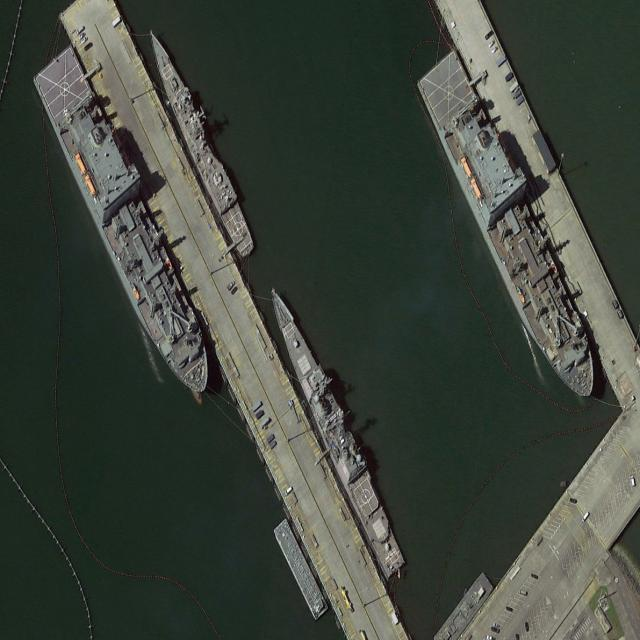Commander: (28, 41, 225, 411), (413, 46, 610, 415)
Cruiser: (261, 275, 408, 583)
Frigate: (139, 18, 258, 262)
